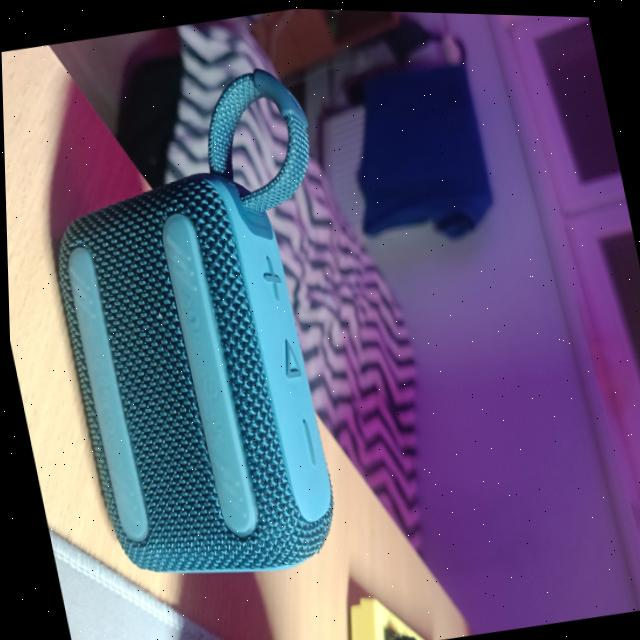column JBL: (3, 20, 395, 601)
